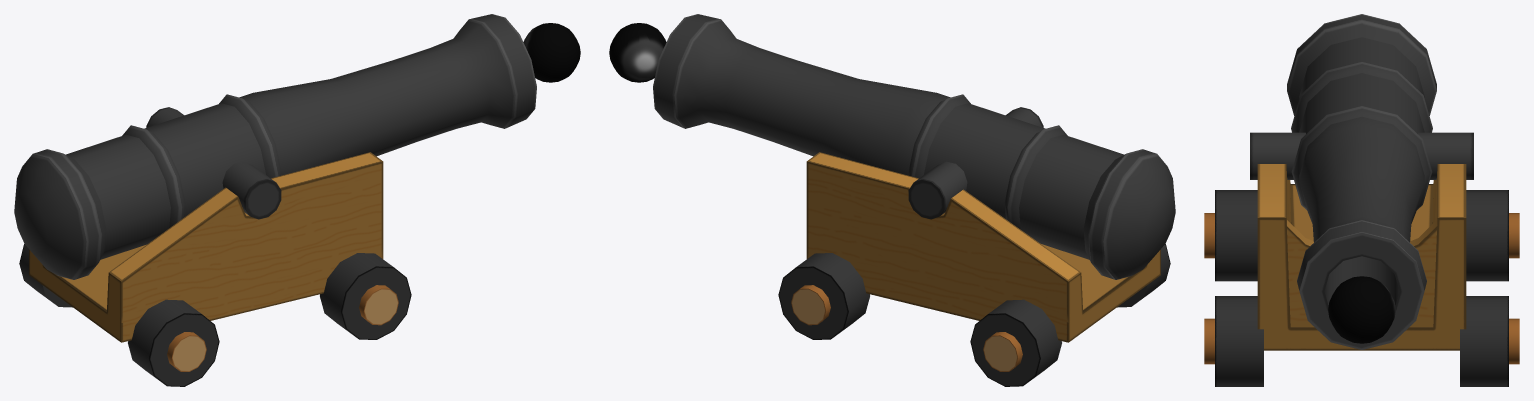
File: md_cannon.fbx
3 renders of one model, left to right at view 1: azimuth 30°, elevation 25°; view 2: azimuth 150°, elevation 25°; view 3: azimuth 270°, elevation 25°, orthographic. The views are drawn at different scales.
Parts seen in each view (by area): view 1: cannon_mesh_001, foundation_mesh_001, tire_mesh_002, tire_mesh_001, cannon_mesh_002, shell_mesh_001; view 2: cannon_mesh_001, foundation_mesh_001, tire_mesh_002, tire_mesh_001, cannon_mesh_002, shell_mesh_001; view 3: cannon_mesh_001, foundation_mesh_001, tire_mesh_001, tire_mesh_002, cannon_mesh_002, shell_mesh_001, foundation_mesh_002.
Boxes of the visible parts, x1=… form: cannon_mesh_001: x1=14, y1=14, x2=536, y2=279; foundation_mesh_001: x1=29, y1=152, x2=383, y2=342; tire_mesh_002: x1=19, y1=244, x2=219, y2=386; tire_mesh_001: x1=320, y1=253, x2=411, y2=339; cannon_mesh_002: x1=146, y1=107, x2=281, y2=219; shell_mesh_001: x1=523, y1=23, x2=580, y2=82; cannon_mesh_001: x1=653, y1=14, x2=1175, y2=279; foundation_mesh_001: x1=806, y1=152, x2=1160, y2=342; tire_mesh_002: x1=970, y1=244, x2=1170, y2=386; tire_mesh_001: x1=778, y1=253, x2=869, y2=339; cannon_mesh_002: x1=908, y1=107, x2=1043, y2=219; shell_mesh_001: x1=609, y1=23, x2=666, y2=82; cannon_mesh_001: x1=1287, y1=14, x2=1436, y2=349; foundation_mesh_001: x1=1257, y1=164, x2=1466, y2=350; tire_mesh_001: x1=1204, y1=296, x2=1519, y2=386; tire_mesh_002: x1=1204, y1=190, x2=1519, y2=281; cannon_mesh_002: x1=1250, y1=132, x2=1473, y2=179; shell_mesh_001: x1=1328, y1=276, x2=1395, y2=343; foundation_mesh_002: x1=1287, y1=220, x2=1437, y2=327.
Size of the model in its own units: 350 by 139 by 154.
